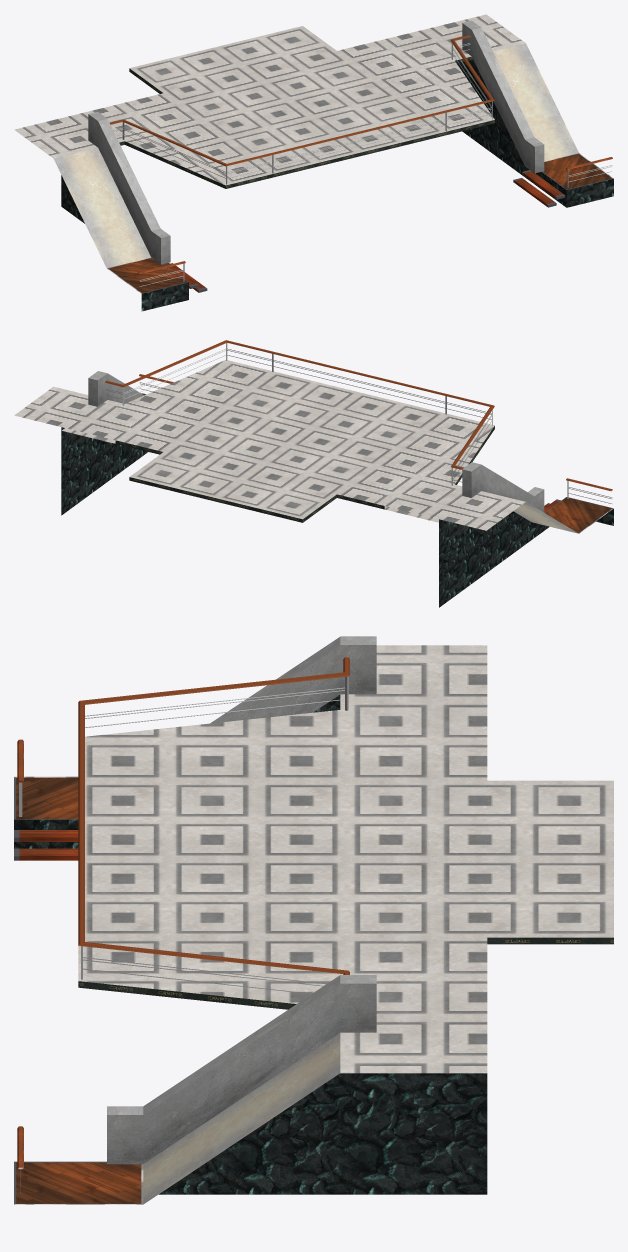
The model's file is Launch_Building_Coon_Stairs_Art.fbx.
3 views of the same model, one above another, from view 1: azimuth 30°, elevation 25°; view 2: azimuth 150°, elevation 25°; view 3: azimuth 270°, elevation 25° (orthographic). The views are drawn at different scales.
Parts seen in each view (by area): view 1: Launch_Building_Coon_Stairs; view 2: Launch_Building_Coon_Stairs; view 3: Launch_Building_Coon_Stairs.
Boxes of the visible parts, box(x1,y1,x2,y2) form: Launch_Building_Coon_Stairs: box(14, 14, 613, 311); Launch_Building_Coon_Stairs: box(14, 340, 613, 607); Launch_Building_Coon_Stairs: box(14, 636, 613, 1204).
Size of the model in its own units: 2381 by 554 by 1411.
